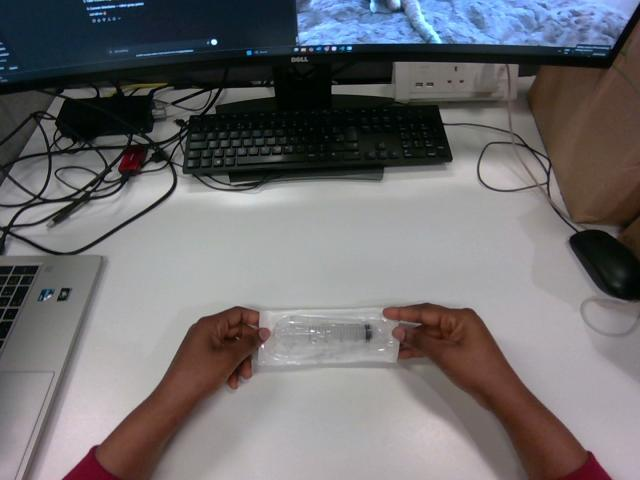syringe: (258, 308, 398, 365)
